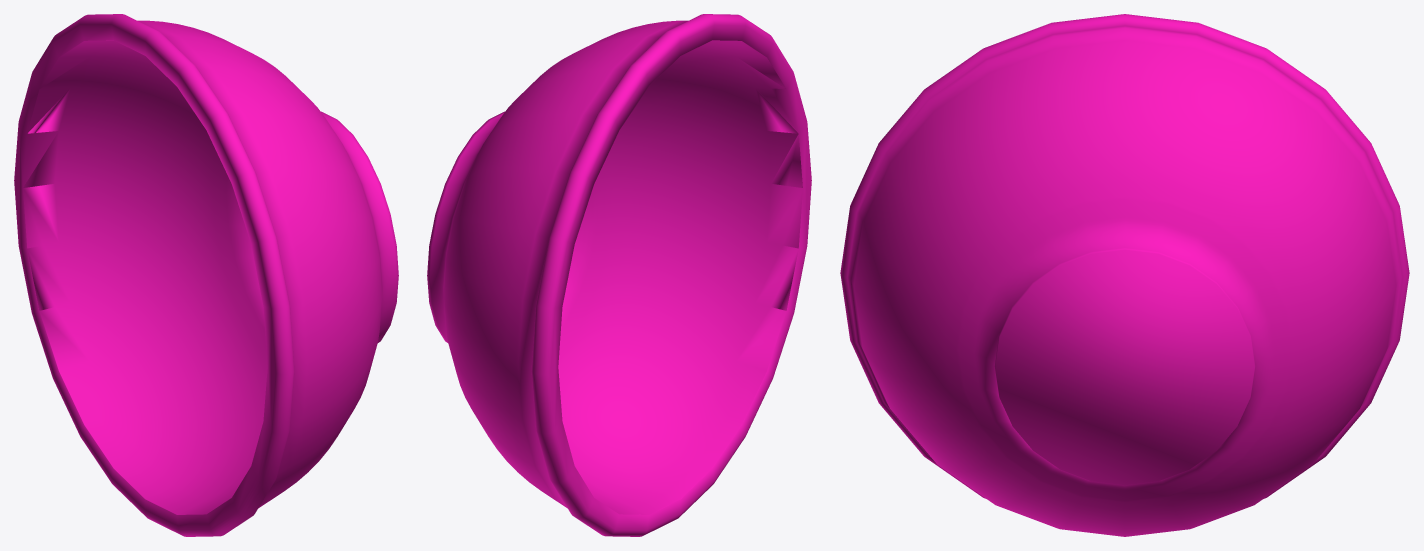
File: bowl1_5.dae
3 renders of one model, left to right at view 1: azimuth 30°, elevation 25°; view 2: azimuth 150°, elevation 25°; view 3: azimuth 270°, elevation 25°, orthographic. The views are drawn at different scales.
Parts seen in each view (by area): view 1: bowl1_019; view 2: bowl1_019; view 3: bowl1_019.
Boxes of the visible parts, x1,y1,x2,y2 form: bowl1_019: (14, 14, 398, 536); bowl1_019: (427, 14, 811, 536); bowl1_019: (840, 14, 1409, 536).
Size of the model in its own units: 0.0894 by 0.217 by 0.217.
